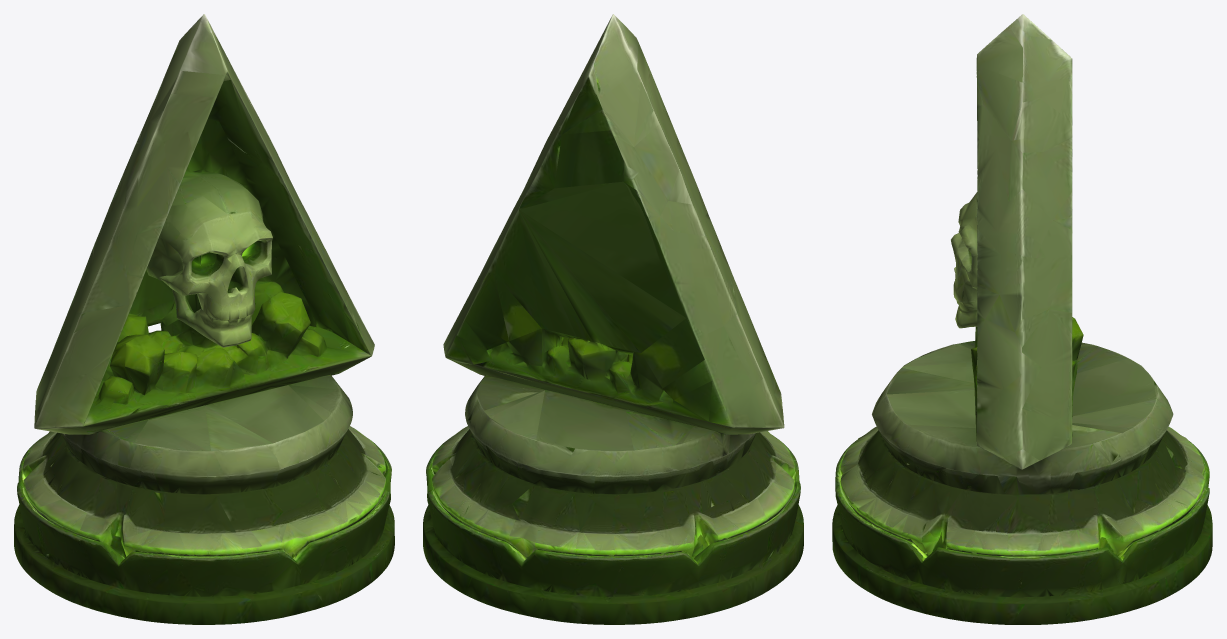
Rendered from phylactery.glb.
The picture shows the model from 3 angles, left to right: view 1: azimuth 30°, elevation 25°; view 2: azimuth 150°, elevation 25°; view 3: azimuth 270°, elevation 25°; orthographic projection.
Visible parts, largest first — view 1: Mesh_0; view 2: Mesh_0; view 3: Mesh_0.
Boxes of the visible parts, bbox=[...] form: Mesh_0: bbox=[14, 14, 394, 624]; Mesh_0: bbox=[423, 14, 803, 624]; Mesh_0: bbox=[832, 14, 1212, 624].
Size of the model in its own units: 0.6714 by 1 by 0.6493.
1 material, 1 textured.
